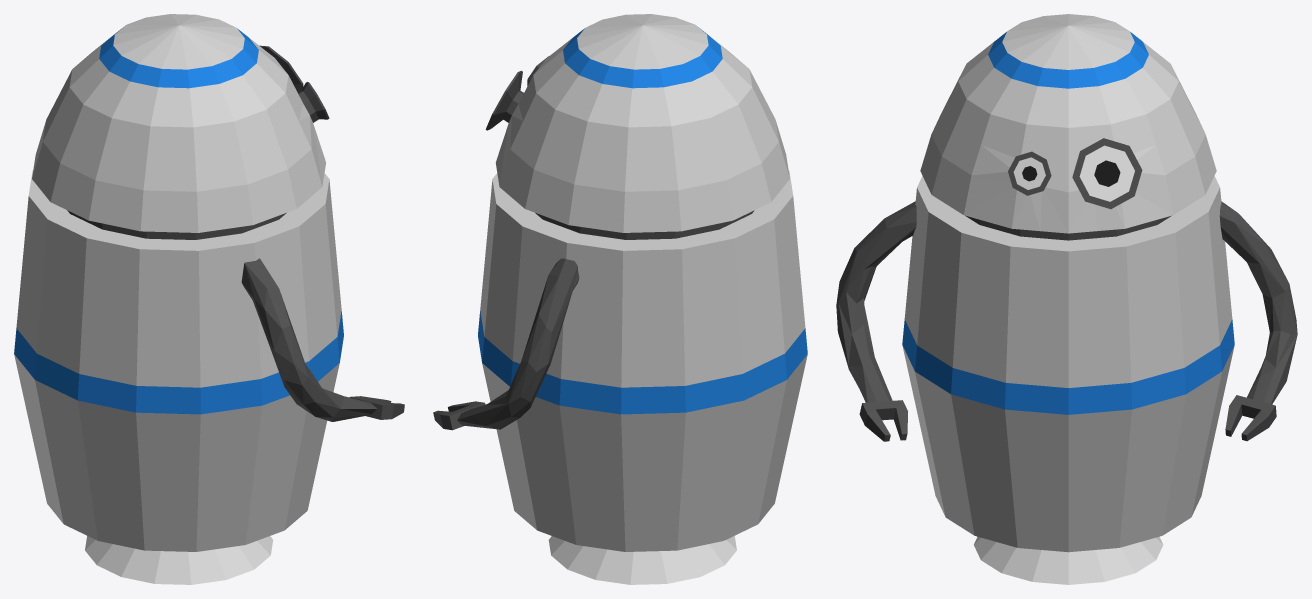
The model's file is Bot.dae.
The picture shows the model from 3 angles, left to right: view 1: azimuth 30°, elevation 25°; view 2: azimuth 150°, elevation 25°; view 3: azimuth 270°, elevation 25°; orthographic projection.
Parts seen in each view (by area): view 1: Cylinder, Circle_002, Cube_001; view 2: Cylinder, Circle_001, Cube; view 3: Cylinder, Circle_002, Circle_001, Cube, Cube_001.
Part boxes in pixels (left/top/right/bottom): Cylinder: left=14, top=14, right=343, bottom=584; Circle_002: left=241, top=258, right=376, bottom=421; Cube_001: left=349, top=396, right=404, bottom=419; Cylinder: left=478, top=14, right=807, bottom=584; Circle_001: left=457, top=258, right=579, bottom=429; Cube: left=433, top=401, right=485, bottom=430; Cylinder: left=902, top=14, right=1234, bottom=584; Circle_002: left=836, top=201, right=916, bottom=402; Circle_001: left=1219, top=201, right=1297, bottom=404; Cube: left=1225, top=395, right=1276, bottom=441; Cube_001: left=859, top=400, right=907, bottom=441.
Size of the model in its own units: 2 by 2.77 by 3.45.
